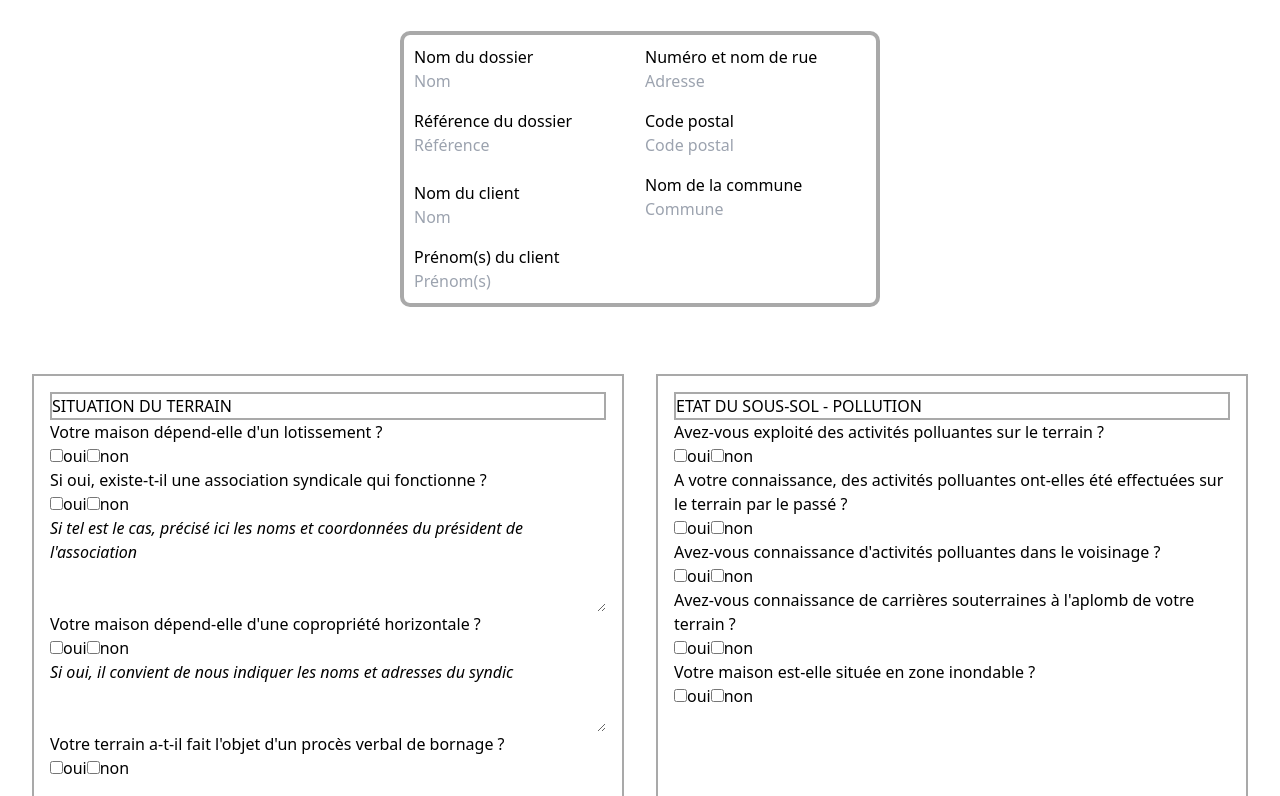
CustomerQuiz component integration testing › Filling AdresseDuBien input should display the input value in CustomerQuizSummary
Type "200 chemin du temple" into the field with test id "bienAdresse" at (760, 81), box [645,69,876,93]
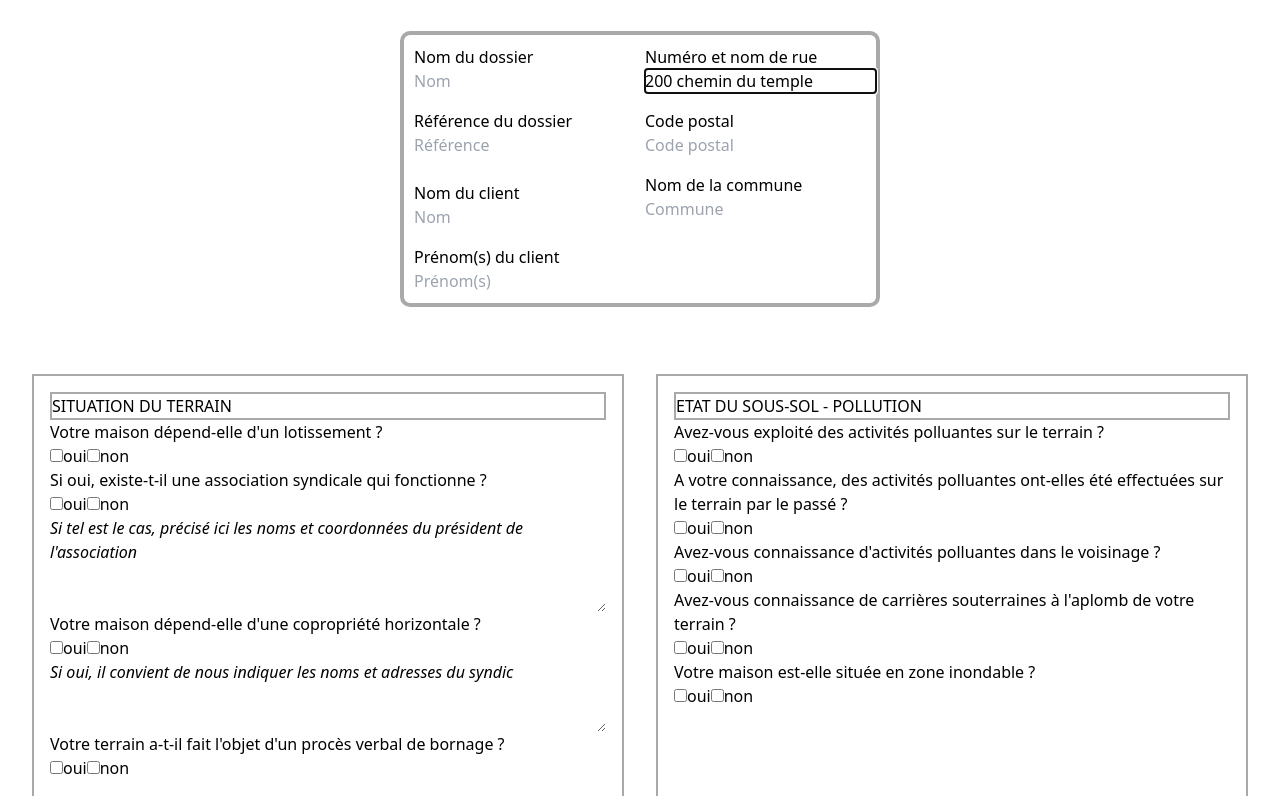
Type "30100" into the field with test id "bienCodePostal" at (760, 145), box [645,133,876,157]
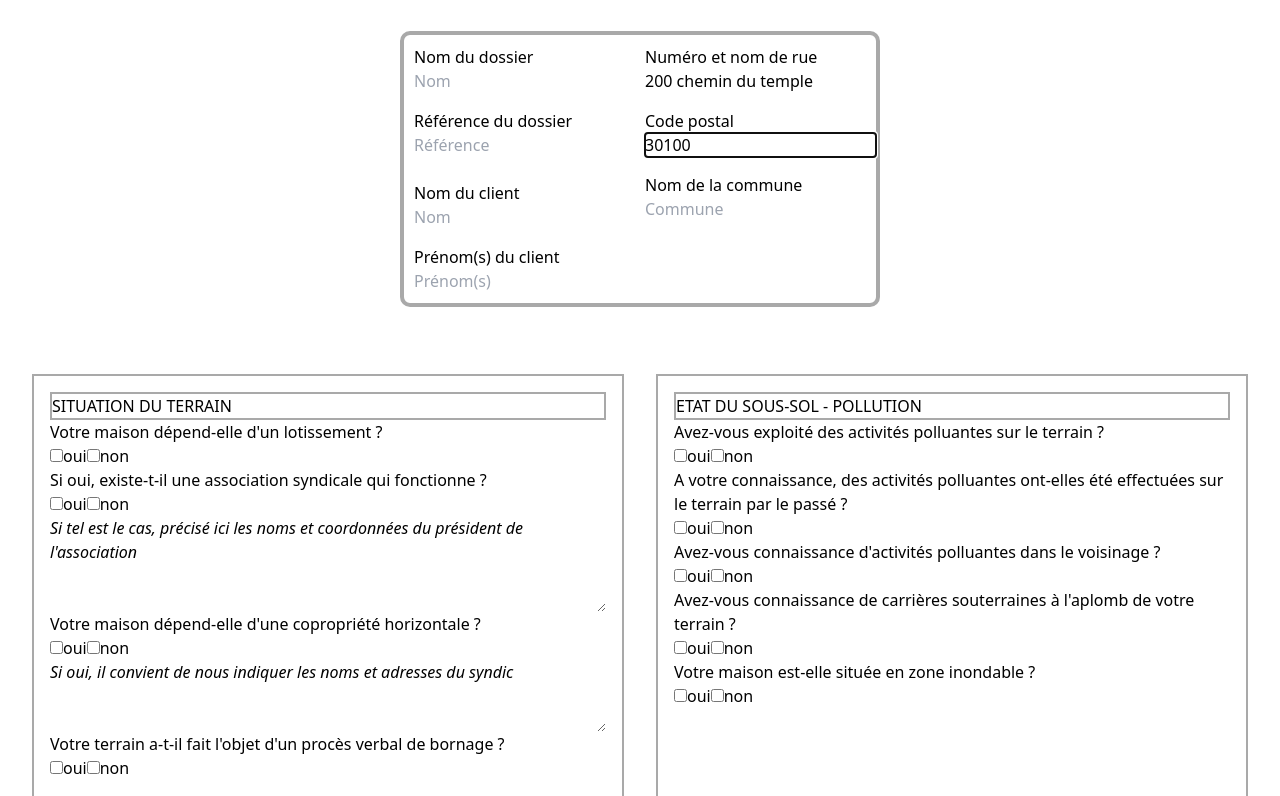
Type "ALES" into the field with test id "bienCommune" at (760, 209), box [645,197,876,221]
(page scrolled)
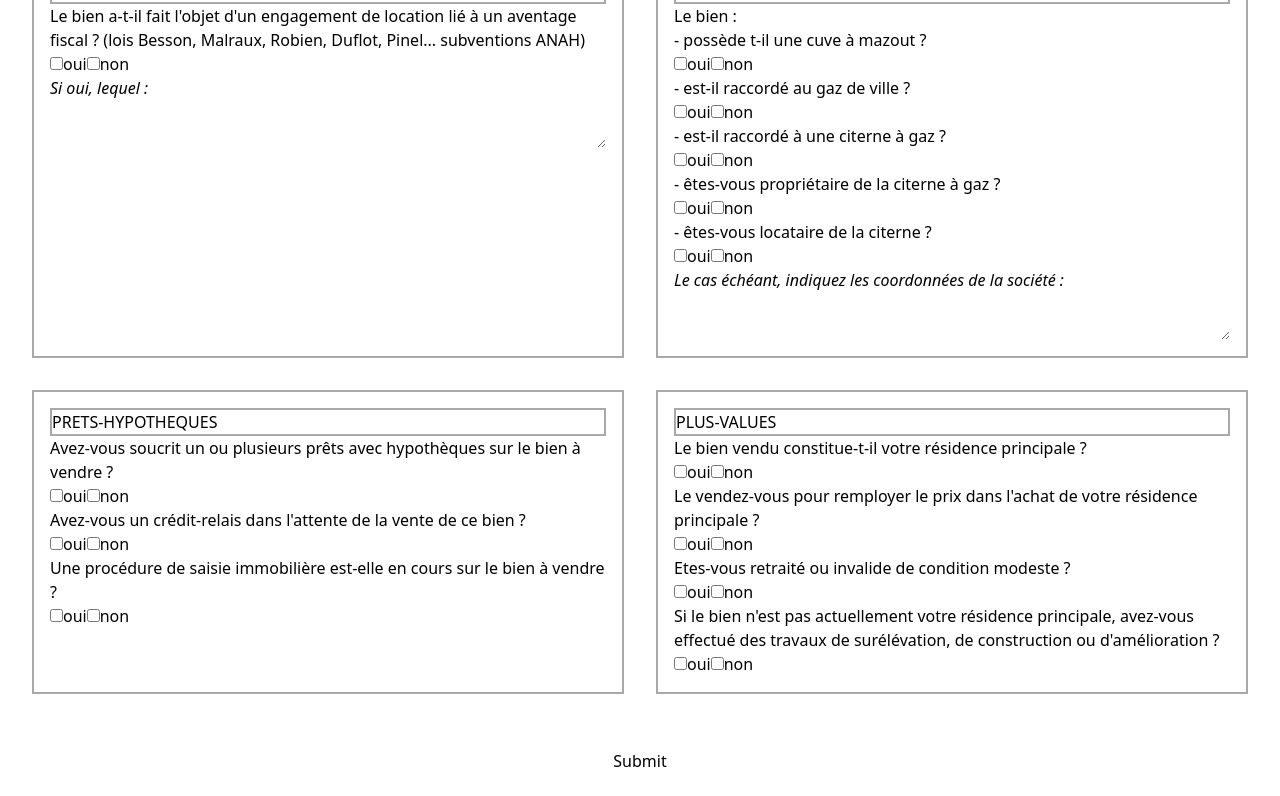
Click the button "Submit" at (640, 761), box [555,726,725,795]
(page scrolled)
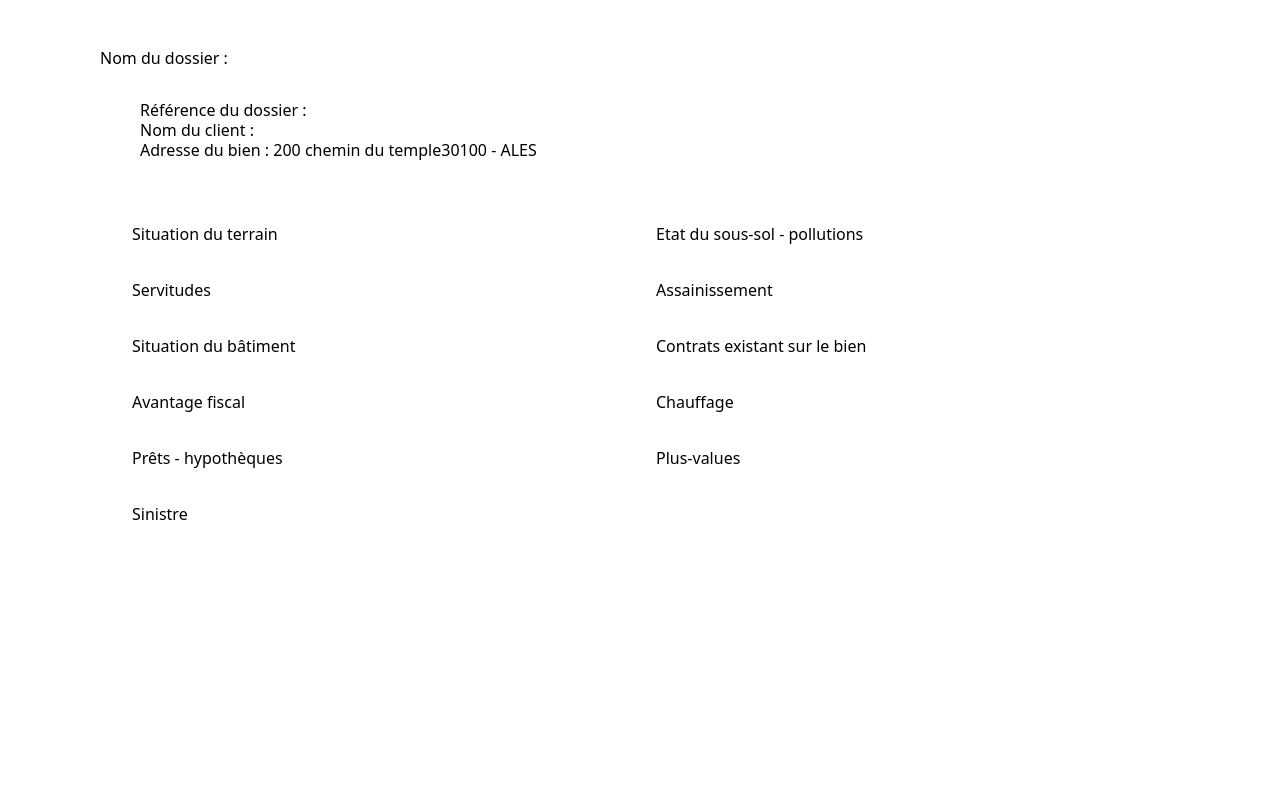
Expected: the text "Adresse du bien : 200 chemin du temple30100 - ALES" is shown, [130,140,547,160]
